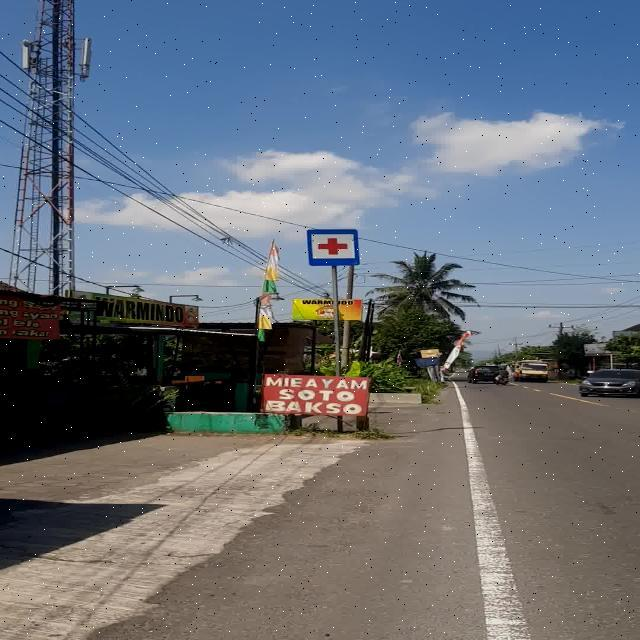Balai Pertolongan Pertama: (306, 229, 359, 266)
